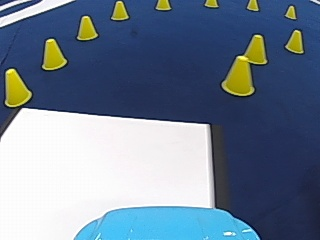cone: (221, 52, 255, 96), (3, 67, 32, 106), (40, 37, 67, 70), (242, 34, 268, 64), (76, 14, 97, 40), (285, 29, 304, 53), (110, 0, 128, 20), (284, 4, 296, 19), (155, 0, 171, 10), (246, 0, 259, 11), (205, 0, 217, 8)
